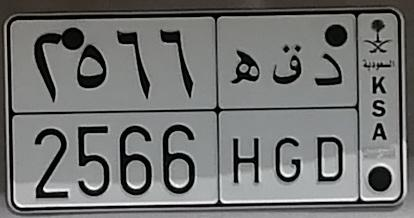2: (33, 31, 70, 199)
5: (75, 43, 112, 197)
6: (159, 27, 198, 195), (116, 30, 154, 197)
D: (314, 53, 345, 184)
G: (271, 44, 302, 185)
H: (231, 48, 262, 185)
